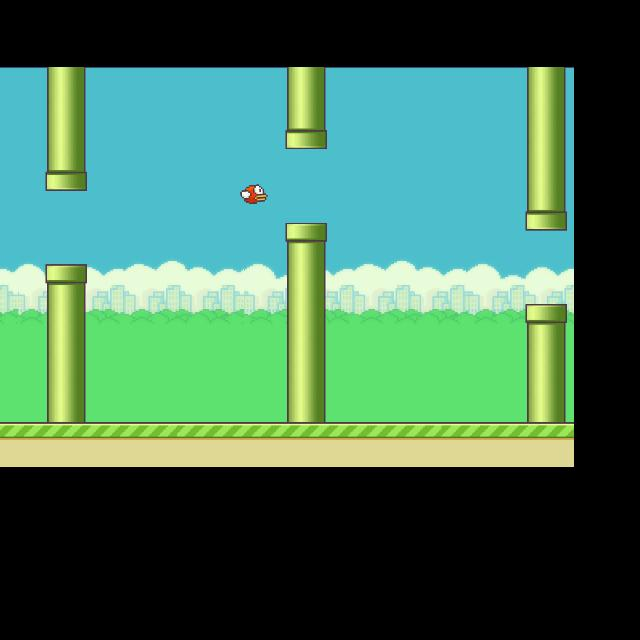bird: (240, 185, 266, 203)
pipedown: (286, 223, 327, 407), (46, 264, 87, 395), (525, 303, 567, 414)
pipeup: (526, 75, 567, 231), (45, 75, 87, 191), (285, 68, 327, 149)
